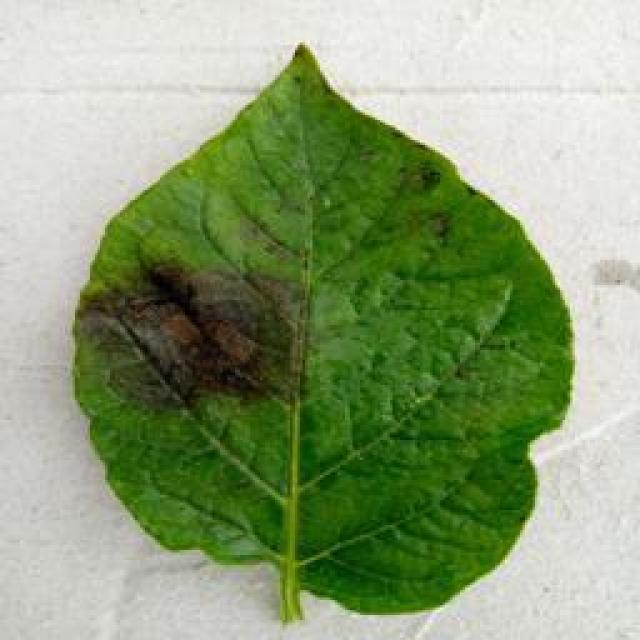late_blight: (65, 37, 580, 625)
